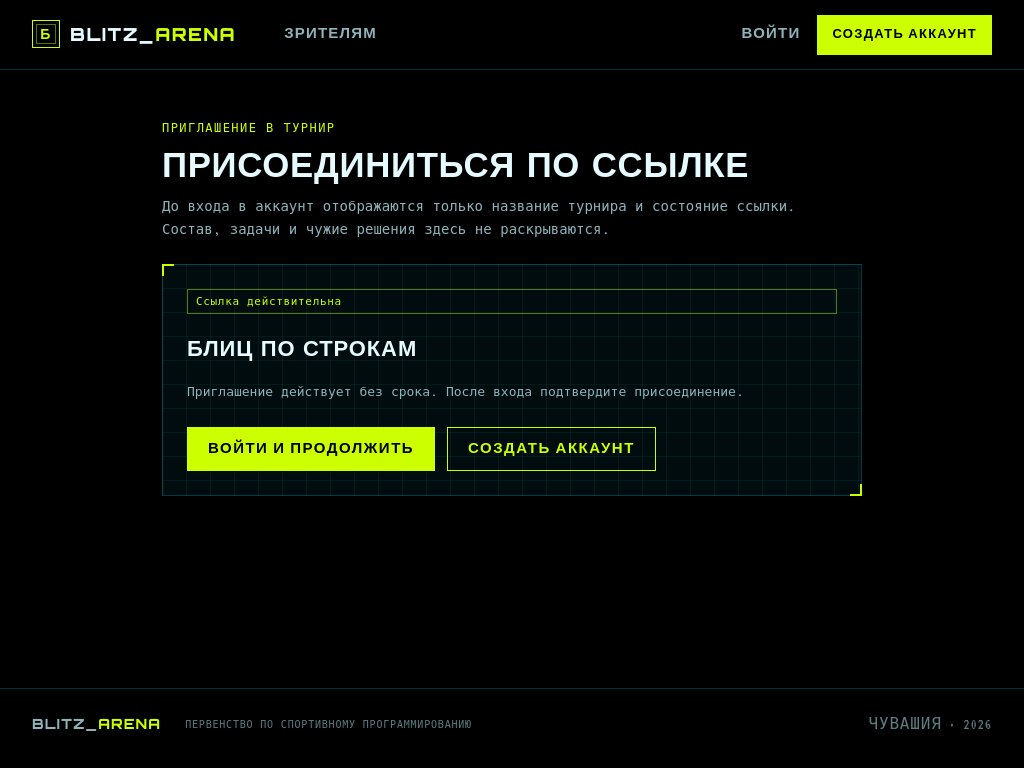
it: admin and invite browser screens › keeps invite preview public and preserves the invite path through registration
Expected: the heading "Блиц по строкам" is shown, [187,334,417,361]
Click the link "Создать аккаунт" next to "Войти и продолжить" at (552, 449), box [447,427,656,471]
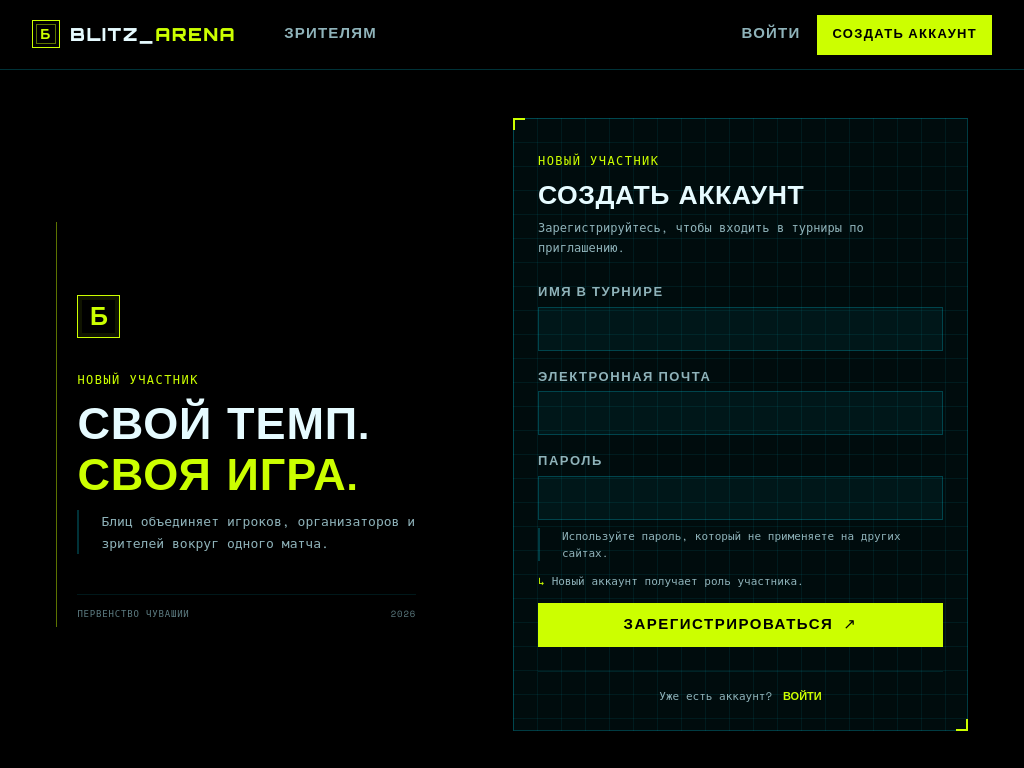
Result: the heading "Создать аккаунт" is shown at [538,177,804,210]
Type "Новый игрок" into the field labelled "Имя в турнире" at (740, 328), box [538,306,943,350]
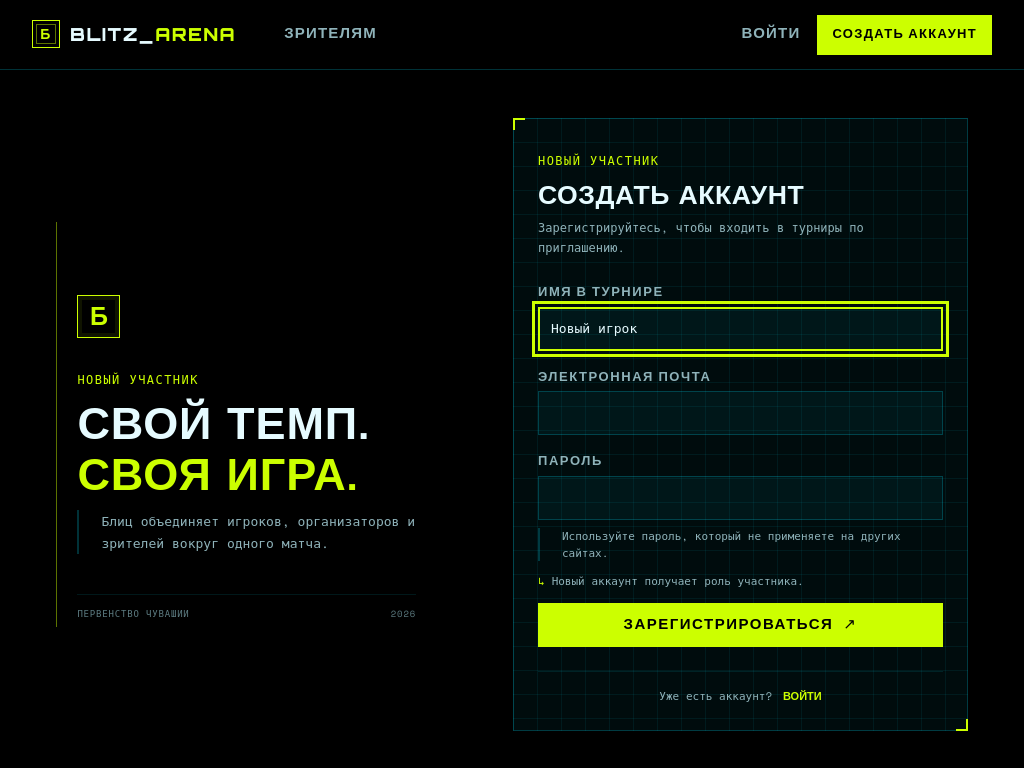
Type "player@example.test" into the field labelled "Электронная почта" at (740, 413), box [538,391,943,435]
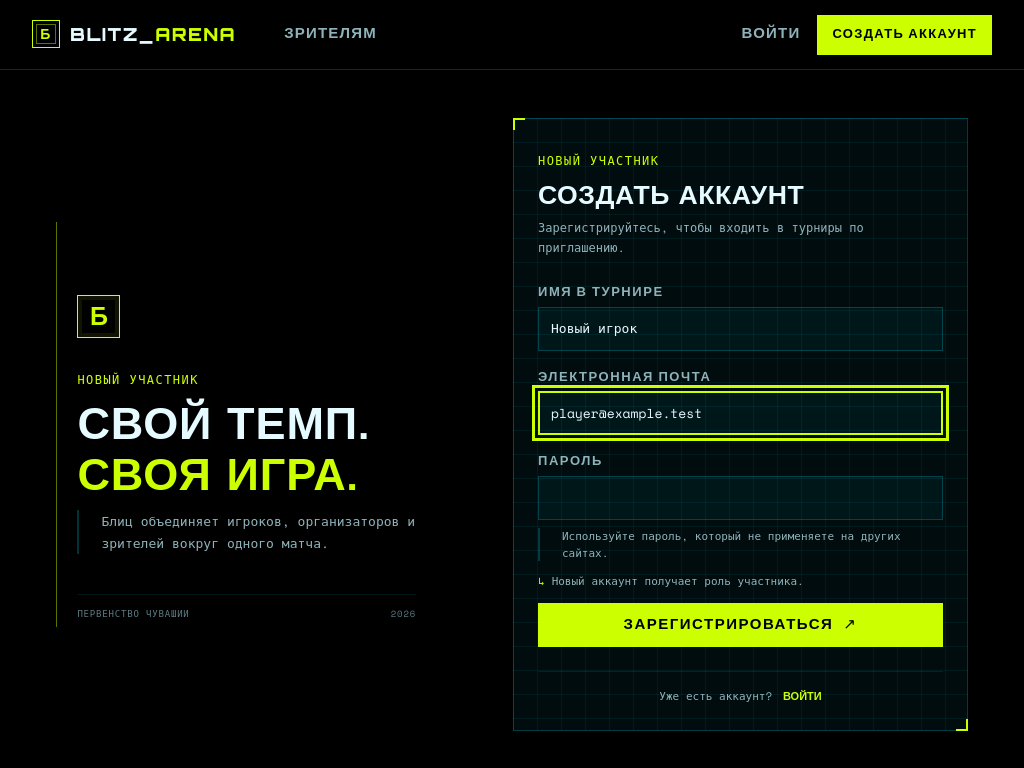
Type "synthetic-password-410" into the password field labelled "Пароль" at (740, 498), box [538,476,943,520]
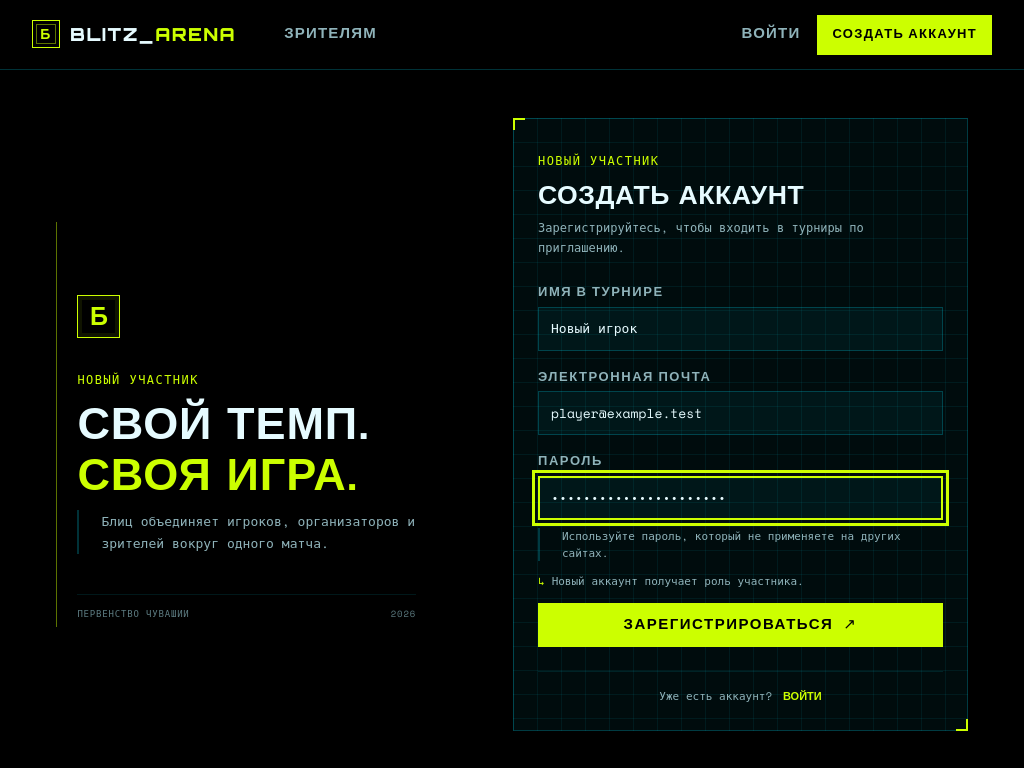
Click the button "Зарегистрироваться ↗" at (740, 625), box [538,603,943,647]
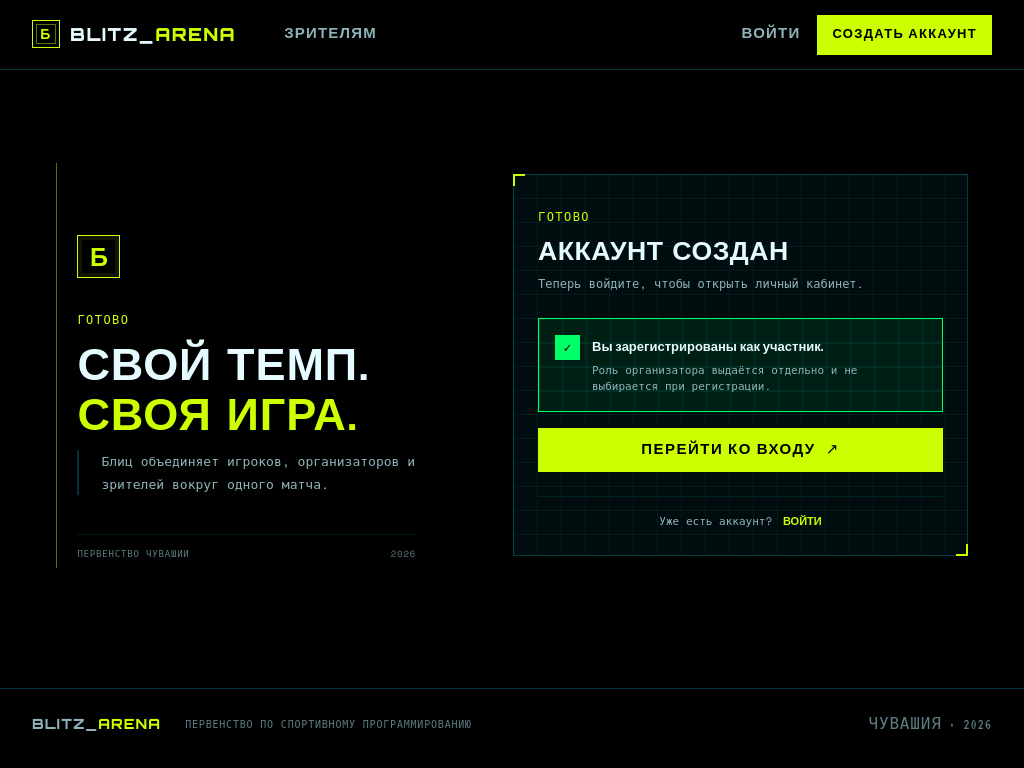
Click the button "Перейти ко входу ↗" at (740, 450), box [538,428,943,472]
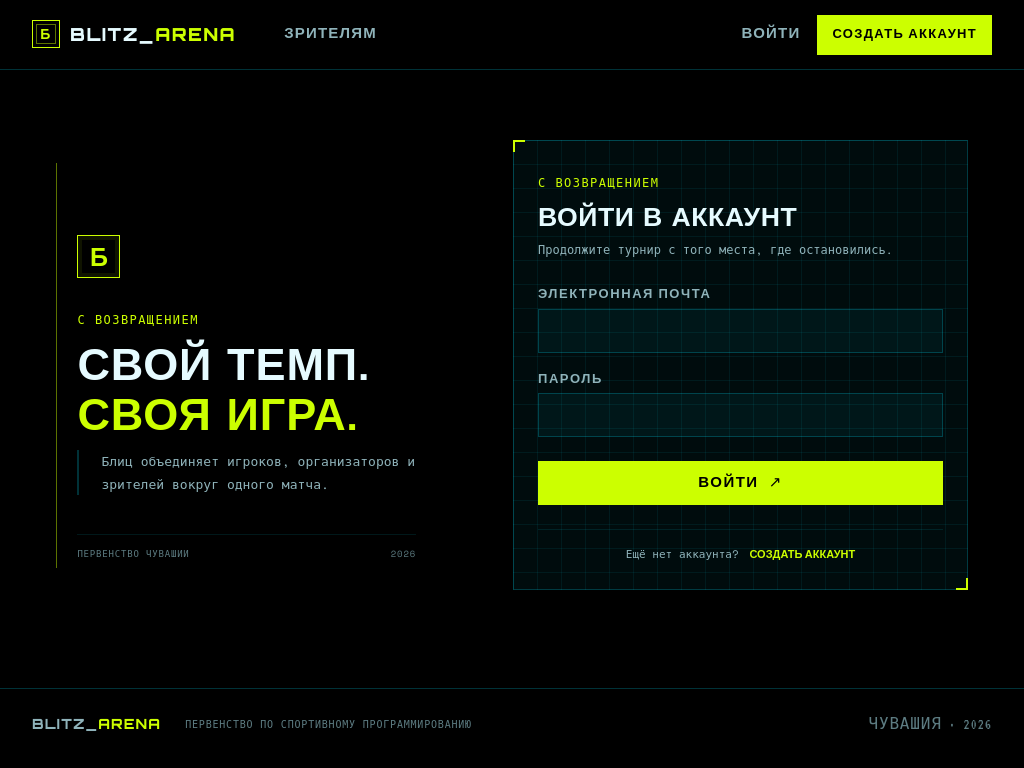
Result: the heading "Войти в аккаунт" is shown at [538,199,797,232]
